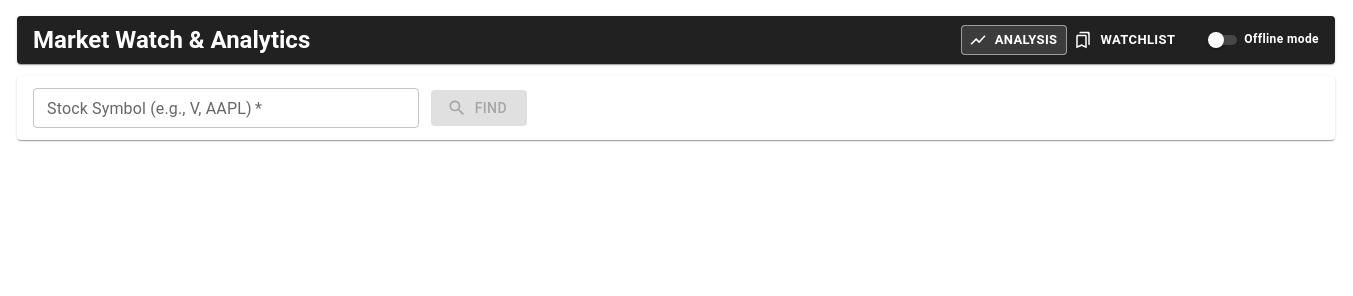
App (default service wiring) › reports a missing fixture as "not found" with the offline symbols as suggestions
The width and height of the screenshot is (1353, 296).
Step 1. Click the switch labelled "Offline mode" → click(1262, 40), box [1204,28,1319,52]
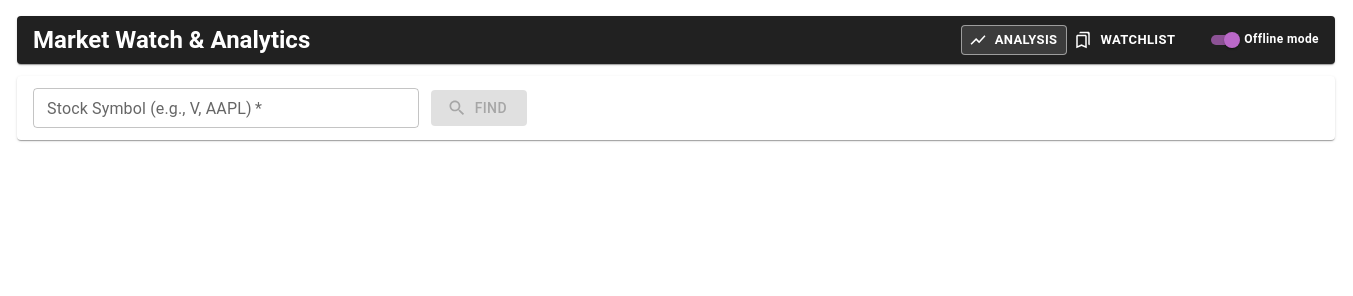
Step 2. Type "msft" into the field labelled "Stock Symbol (e.g., V, AAPL) *" → (226, 108), box [33,88,419,128]
Then press Enter
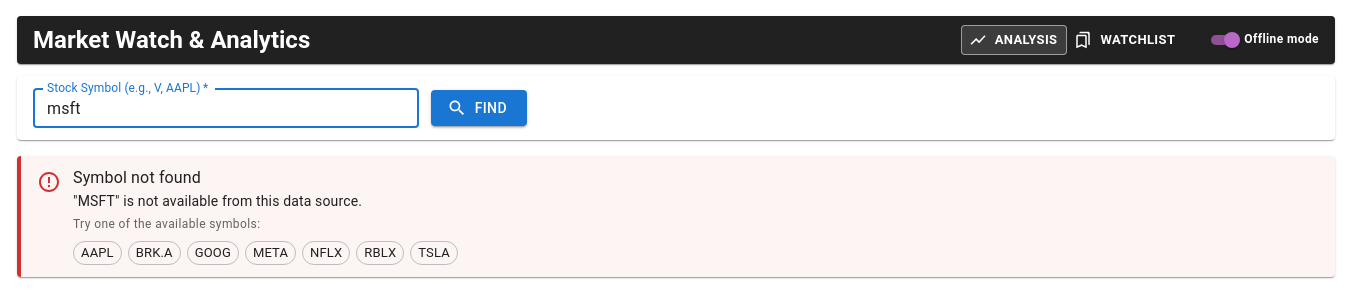
Check: the message shows "Symbol not found", box [73,168,201,187]
